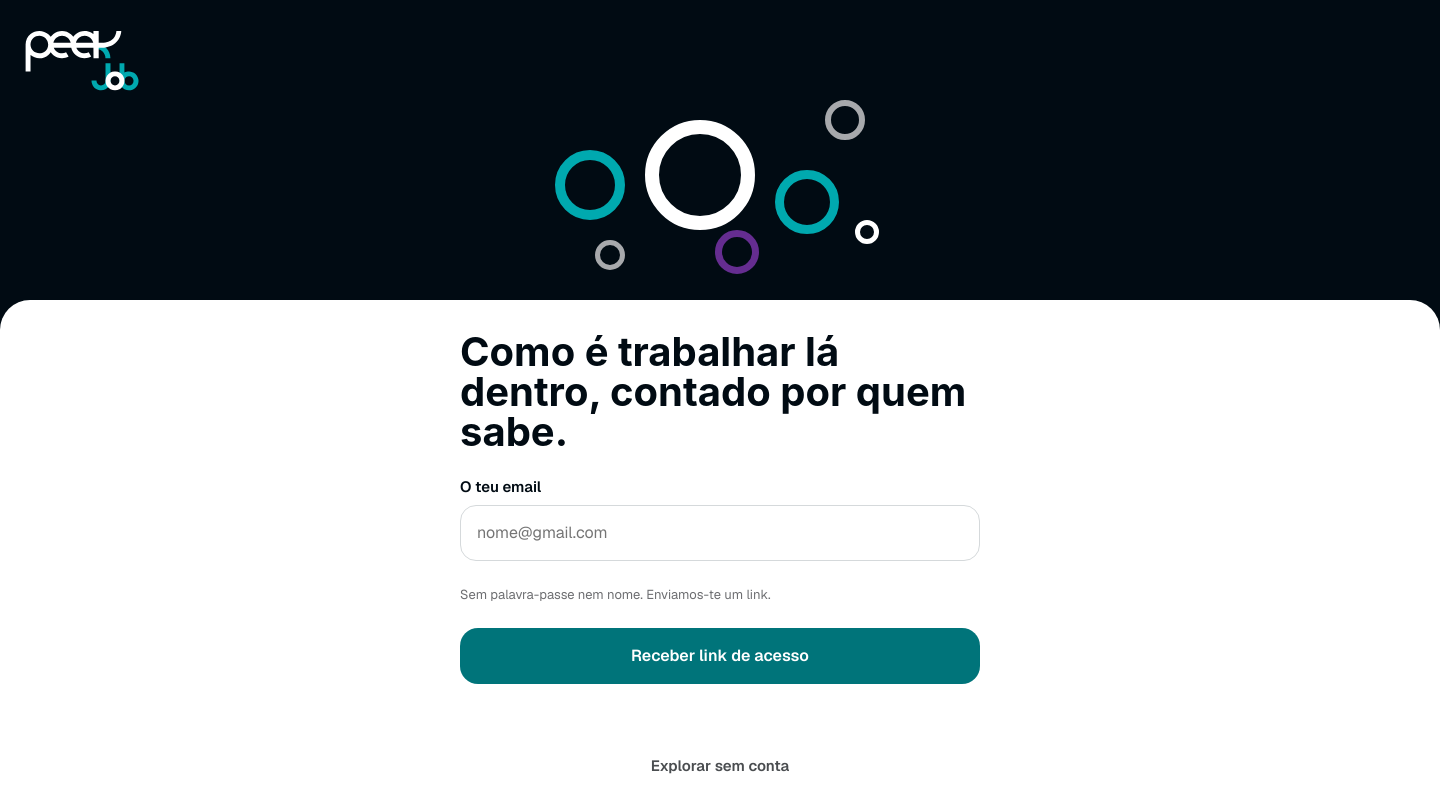
Test: Entrar, modo API (mobile) › pede o link ao servidor e diz para abrir o email (sem botão de "abri o link")
Type " ana@gmail.com" into the field labelled "O teu email" at [720, 532], box 460,504 -> 980,560
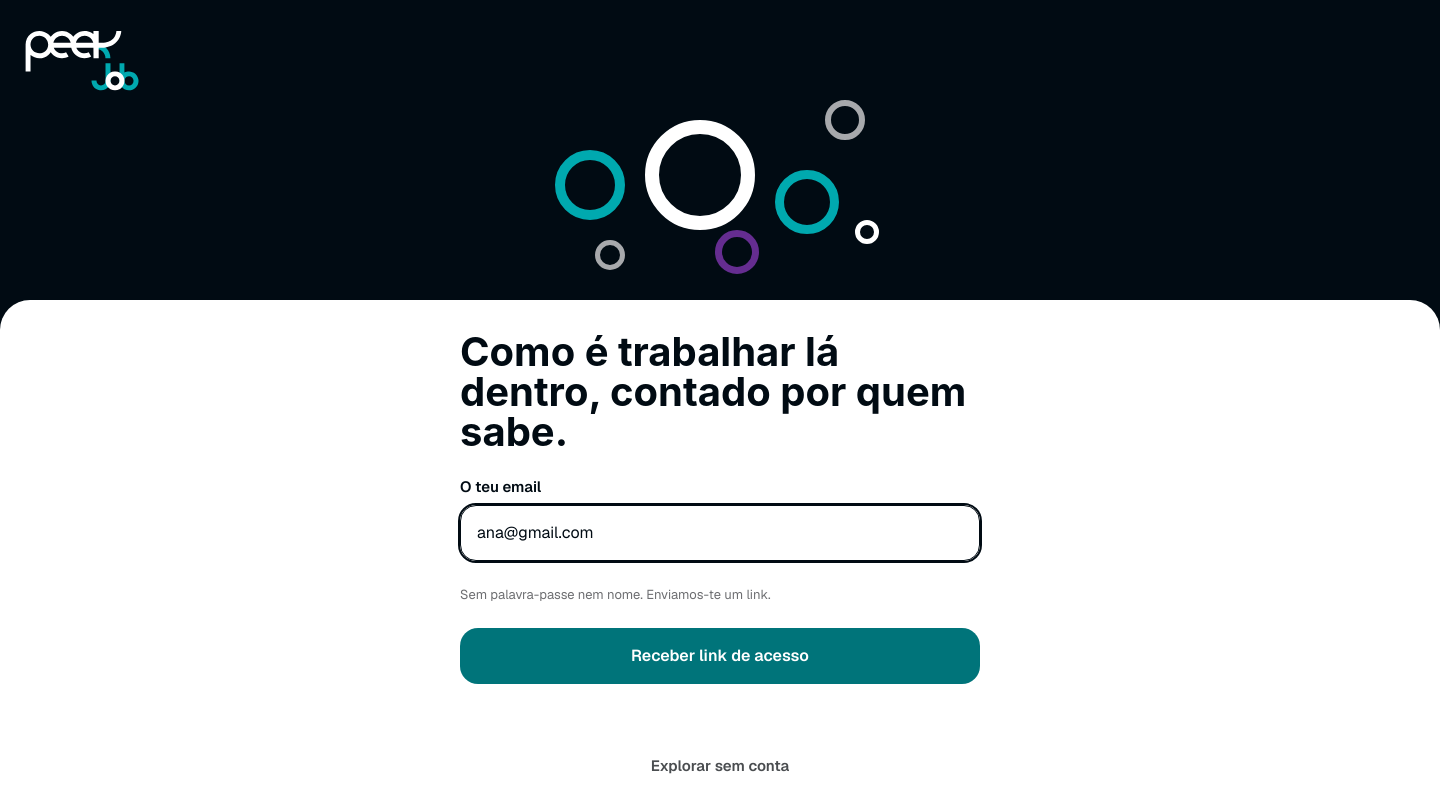
Click the button "Receber link de acesso" at [720, 656], box 460,628 -> 980,684
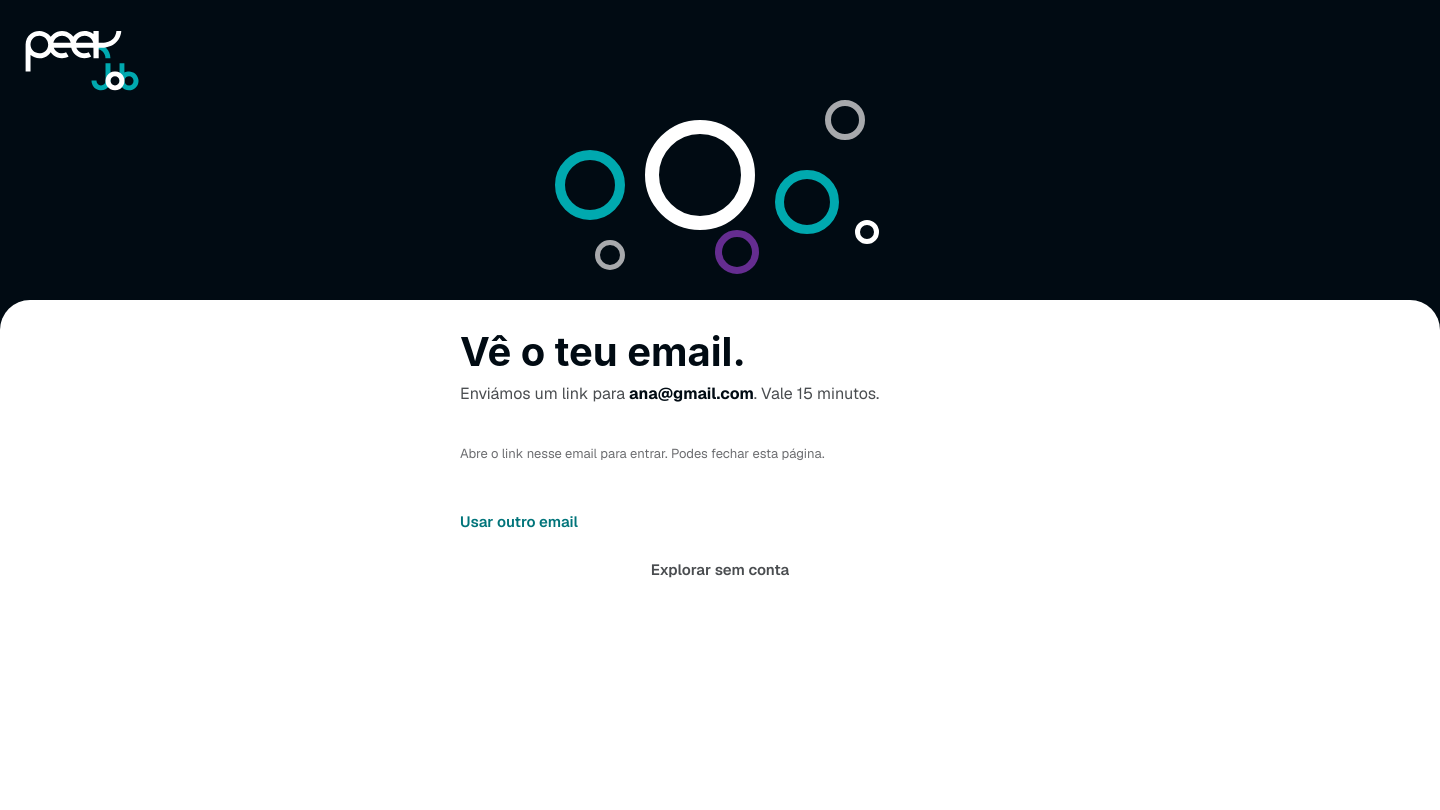
Check: the text "Abre o link nesse email para entrar. Podes fechar esta página." is shown, box 460,445 -> 824,462
